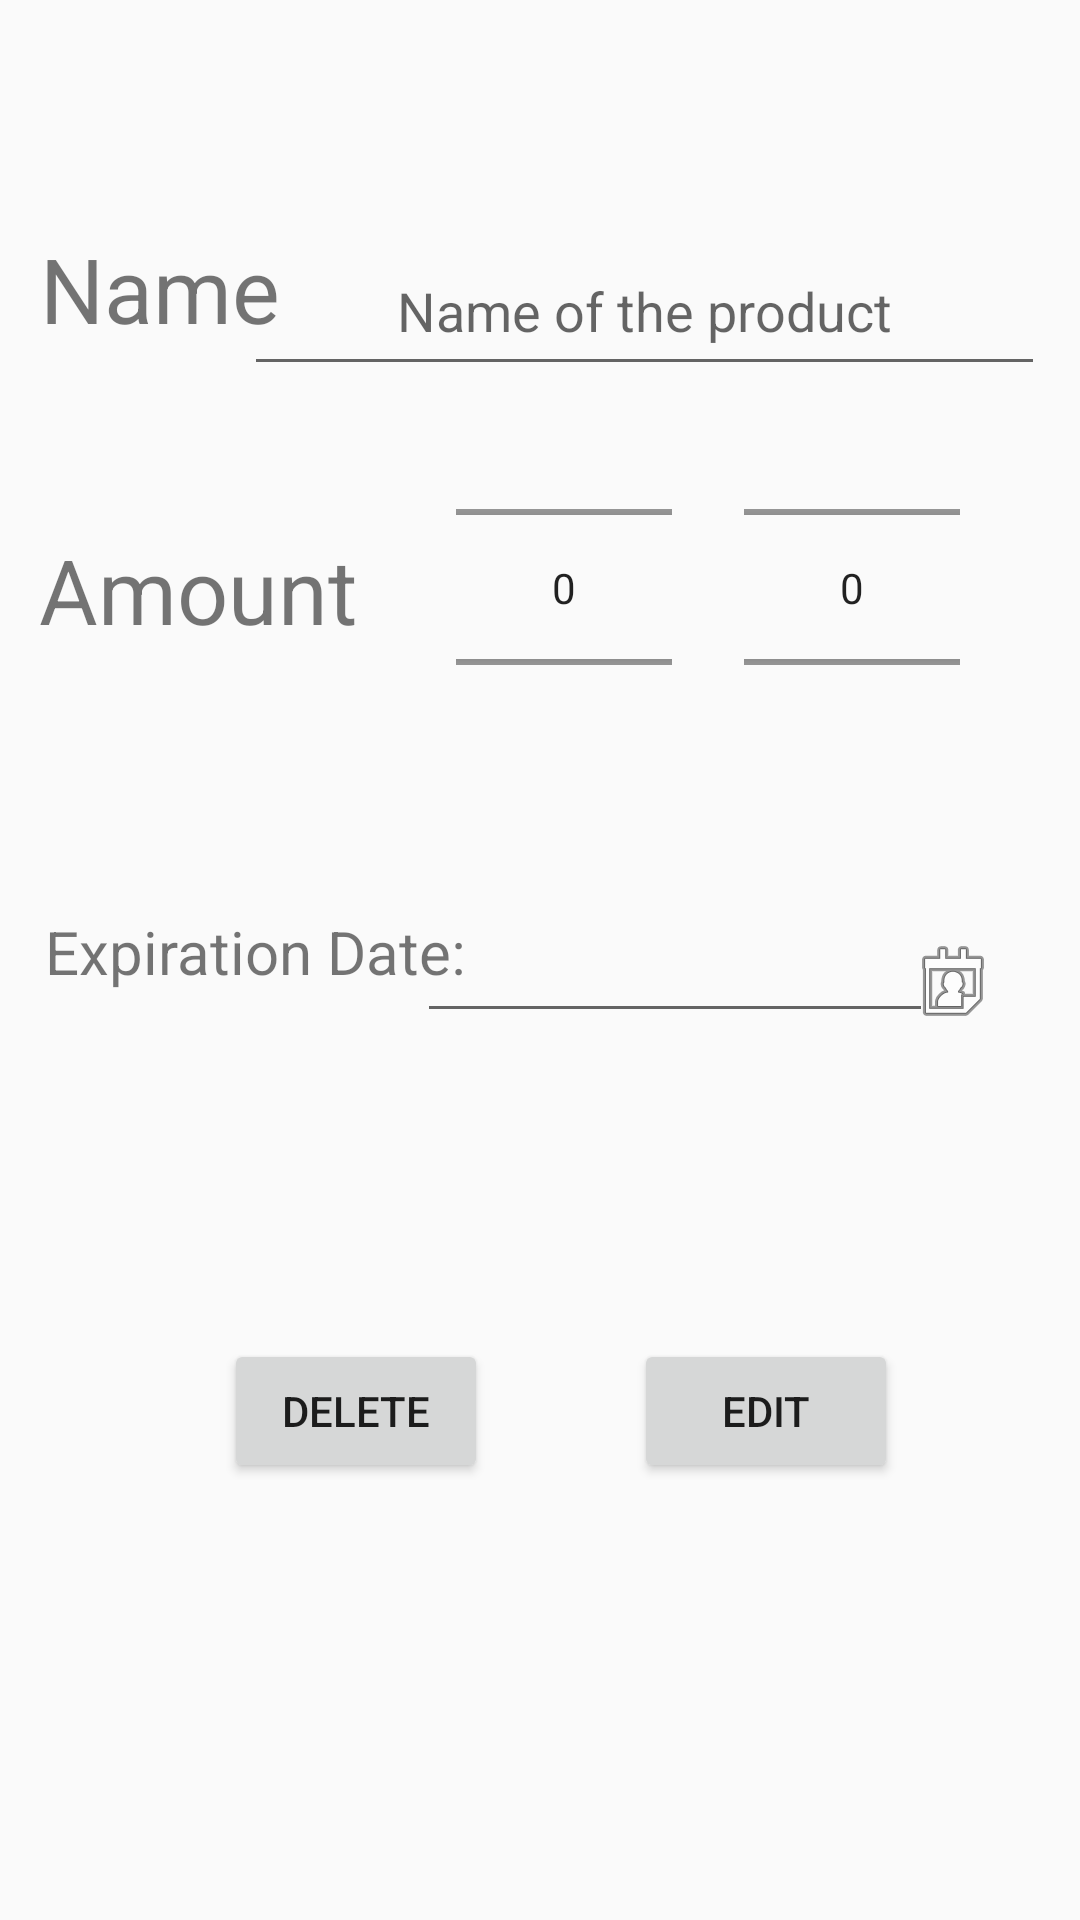

Icons on this 1080 x 1920 Android screen, each with the point to tap as (x=x, y=y):
calendar: (x=953, y=981)
